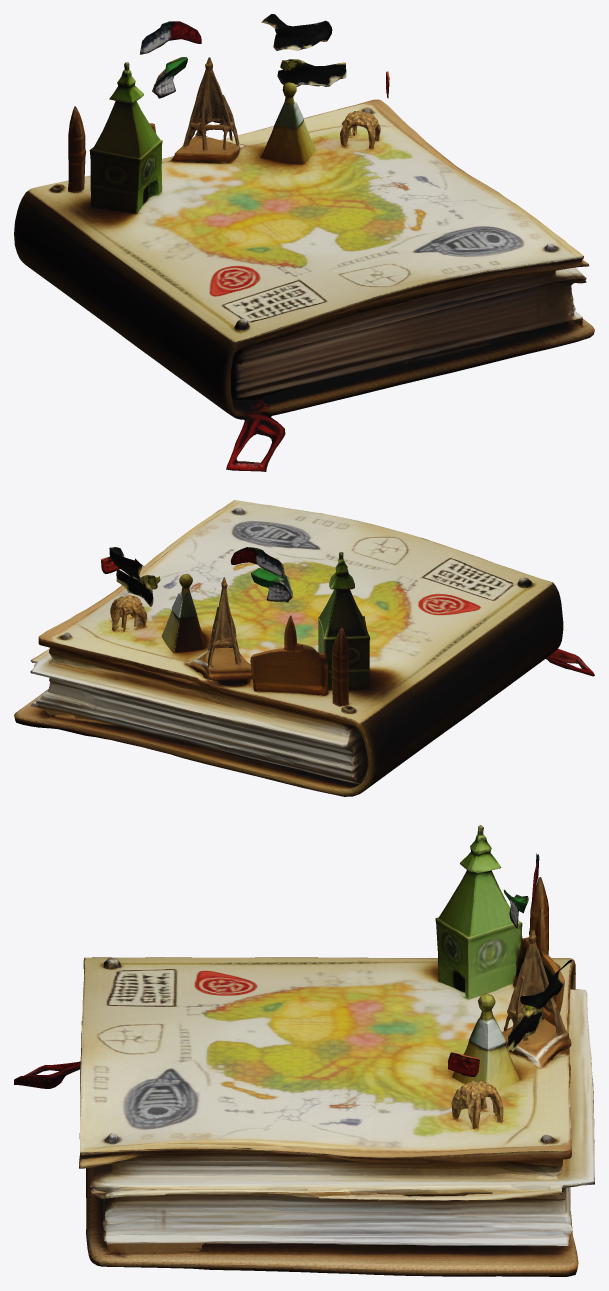
File: recycled-paper-travel-journal-3d.jpeg.glb
The picture shows the model from 3 angles, top to bottom: view 1: azimuth 30°, elevation 25°; view 2: azimuth 150°, elevation 25°; view 3: azimuth 270°, elevation 25°; orthographic projection. The views are drawn at different scales.
Visible parts, largest first — view 1: world; view 2: world; view 3: world.
Boxes of the visible parts, x1,y1,x2,y2 form: world: (14, 14, 594, 471); world: (14, 500, 594, 796); world: (14, 825, 594, 1276).
Bounding box in the file's own units: 0.9233 × 0.559 × 0.9796.
Materials: 1 (1 with a texture image).
